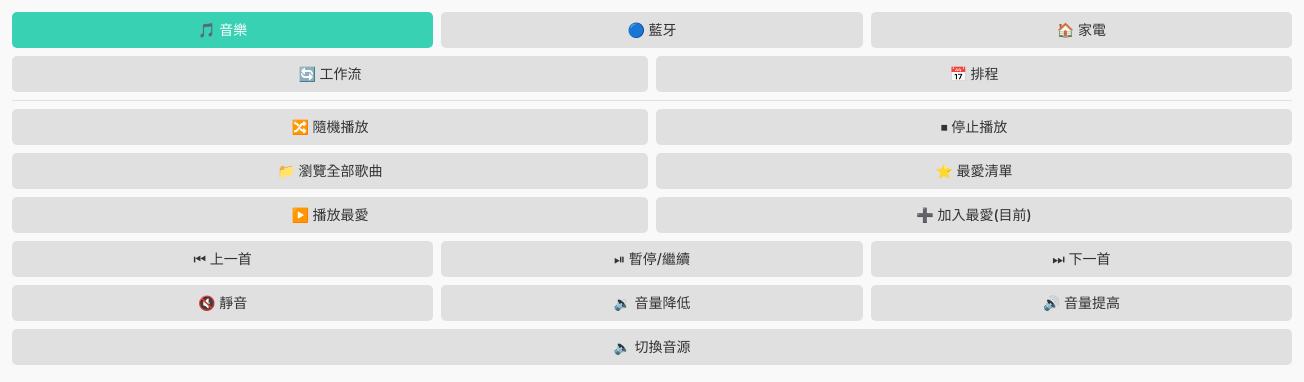
Test: LifeActionPanel — category split (#7) › switches to the 家電 sub-panel when 家電 is clicked
Click the button "🏠 家電": (1081, 30) [871,12,1292,48]
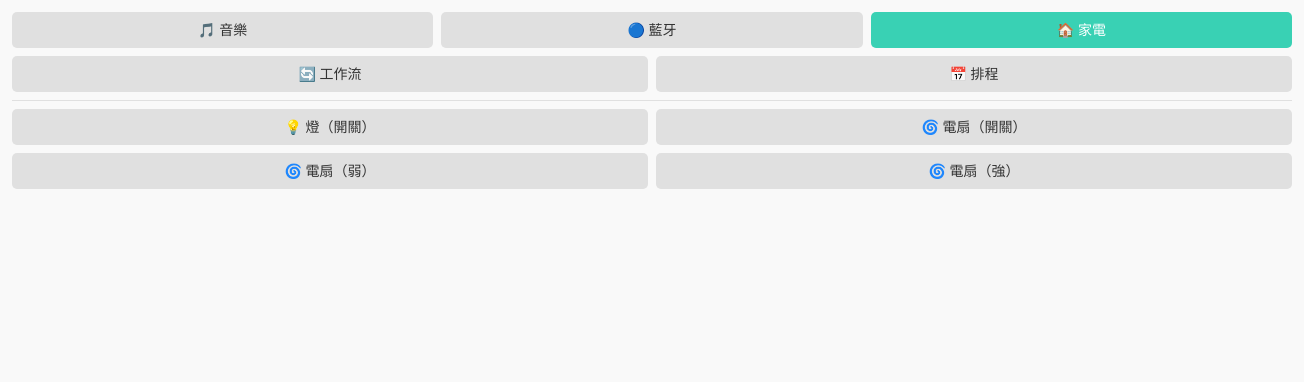
Result: the button "💡 燈（開關）" is shown at [12,109,648,145]
Result: the button "隨機播放" is gone
